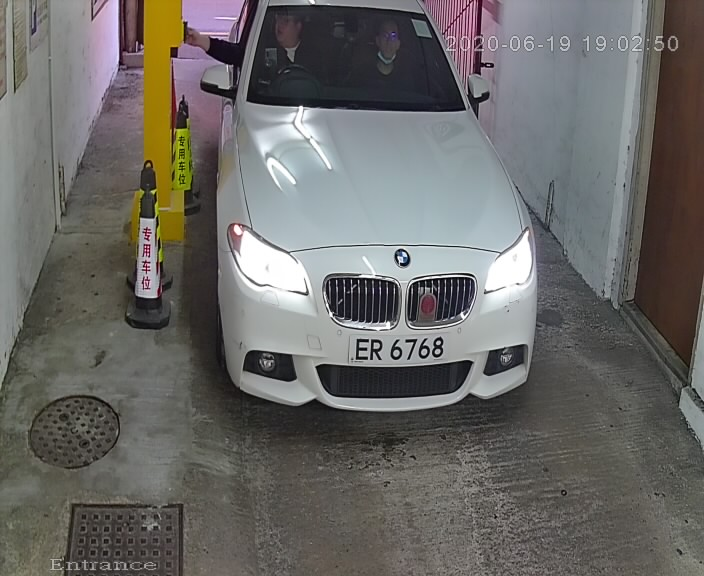privatecar: (195, 3, 552, 429)
